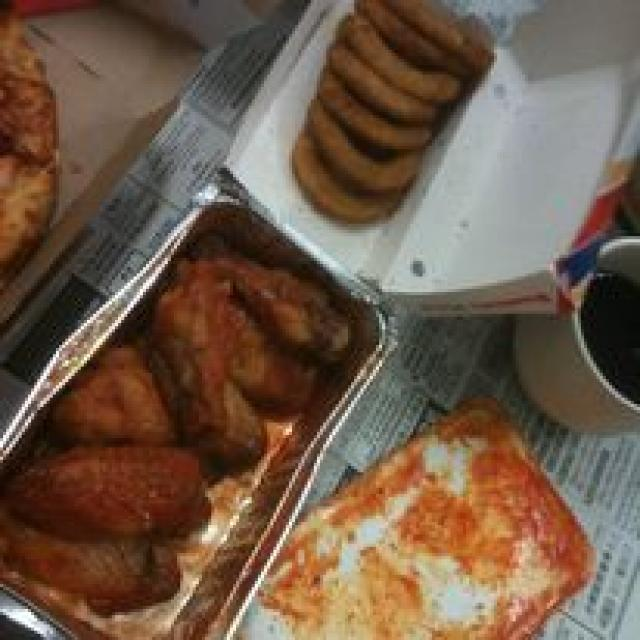Chicken Wings: (9, 205, 351, 621)
Onion Rings: (289, 0, 497, 236)
